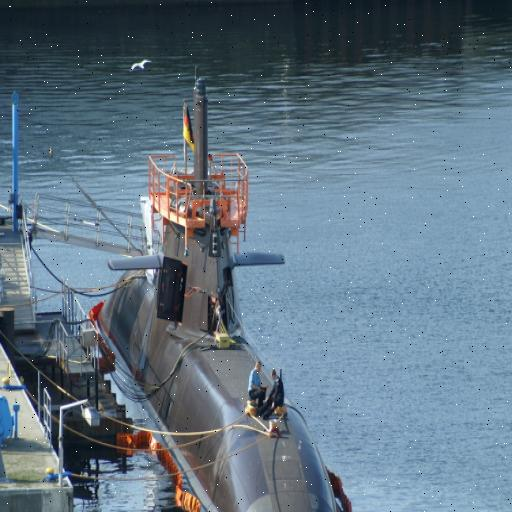submarine: (97, 76, 352, 512)
